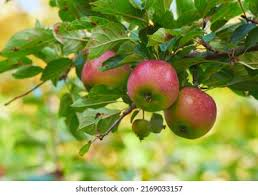tao: (127, 59, 176, 112), (79, 47, 127, 96)
